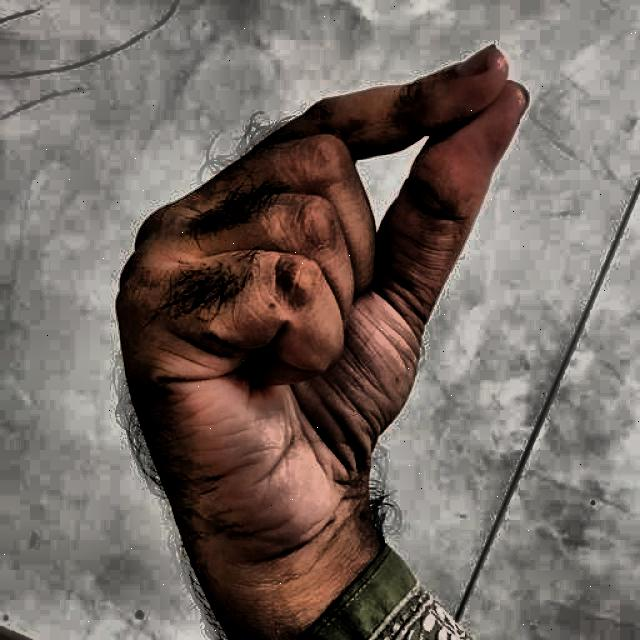Anusshar: (90, 22, 544, 608)
